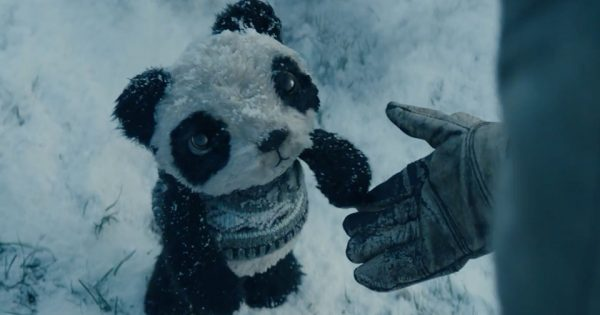panda: (119, 15, 353, 315)
